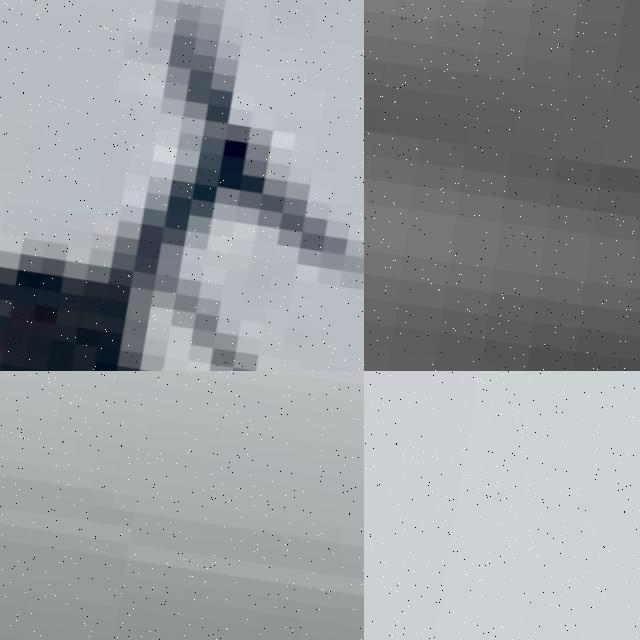drone: (0, 0, 364, 371), (0, 371, 364, 640), (364, 371, 640, 640)
